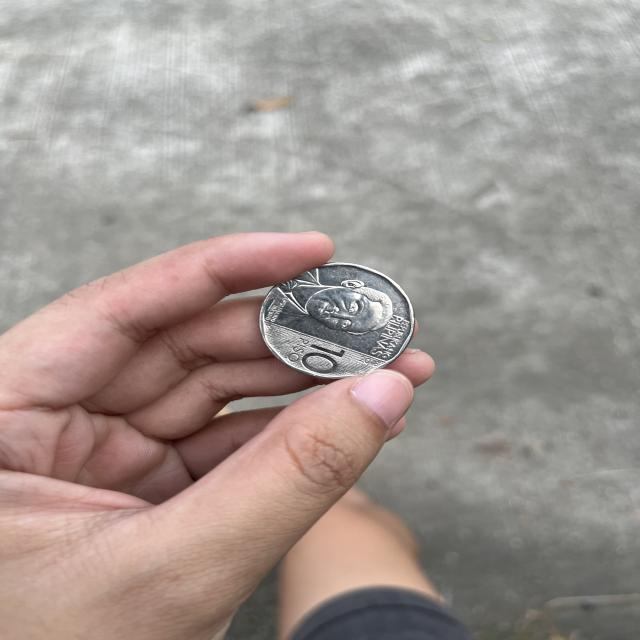10_New_Front: (285, 332, 347, 376)
